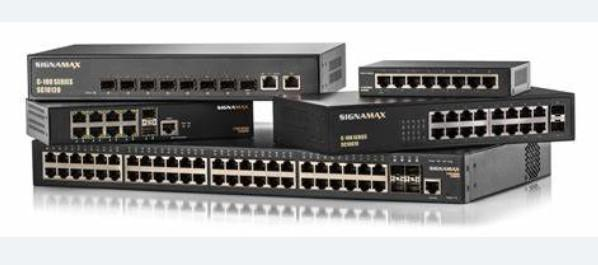NetworkSwitch: (28, 42, 347, 101)
